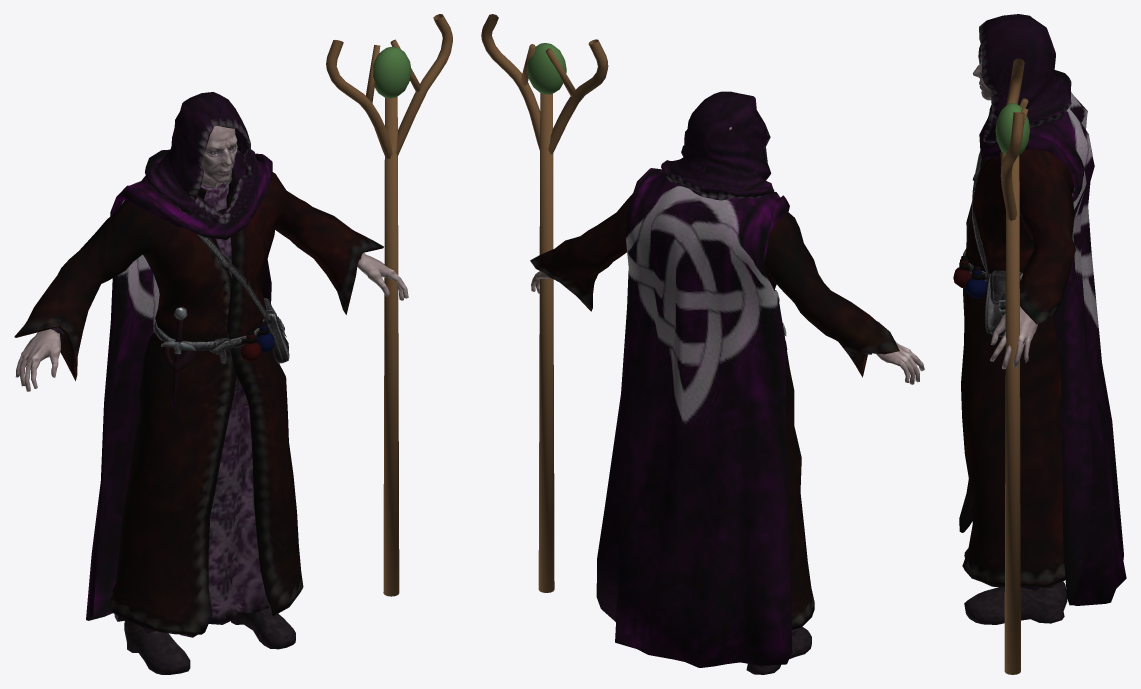
Rendered from actor-braevalar-mobile.glb.
3 renders of one model, left to right at view 1: azimuth 30°, elevation 25°; view 2: azimuth 150°, elevation 25°; view 3: azimuth 270°, elevation 25°, orthographic. The views are drawn at different scales.
Visible parts, largest first — view 1: mage · posed; view 2: mage · posed; view 3: mage · posed.
Boxes of the visible parts, x1,y1,x2,y2 form: mage · posed: (14,14,452,674); mage · posed: (481,14,924,674); mage · posed: (953,14,1126,674).
Size of the model in its own units: 1.64 by 2.09 by 0.5488.
3 materials, 1 textured.
